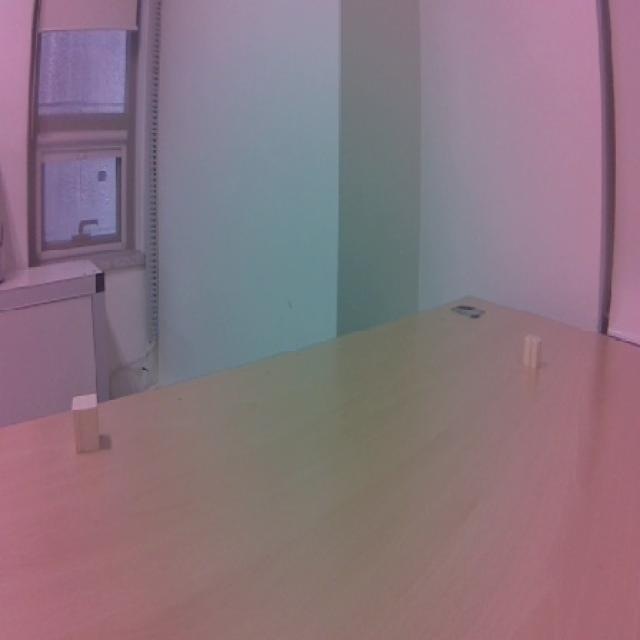obstacle: (63, 391, 118, 460), (512, 329, 554, 380)
